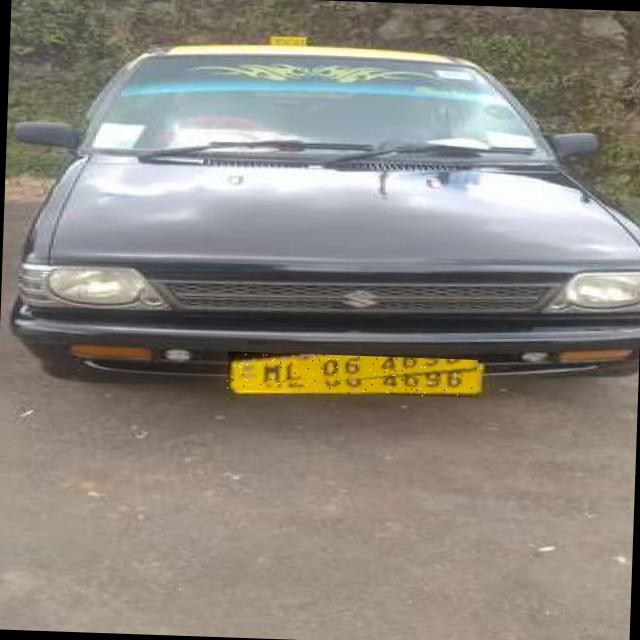Plate: (228, 352, 481, 399)
